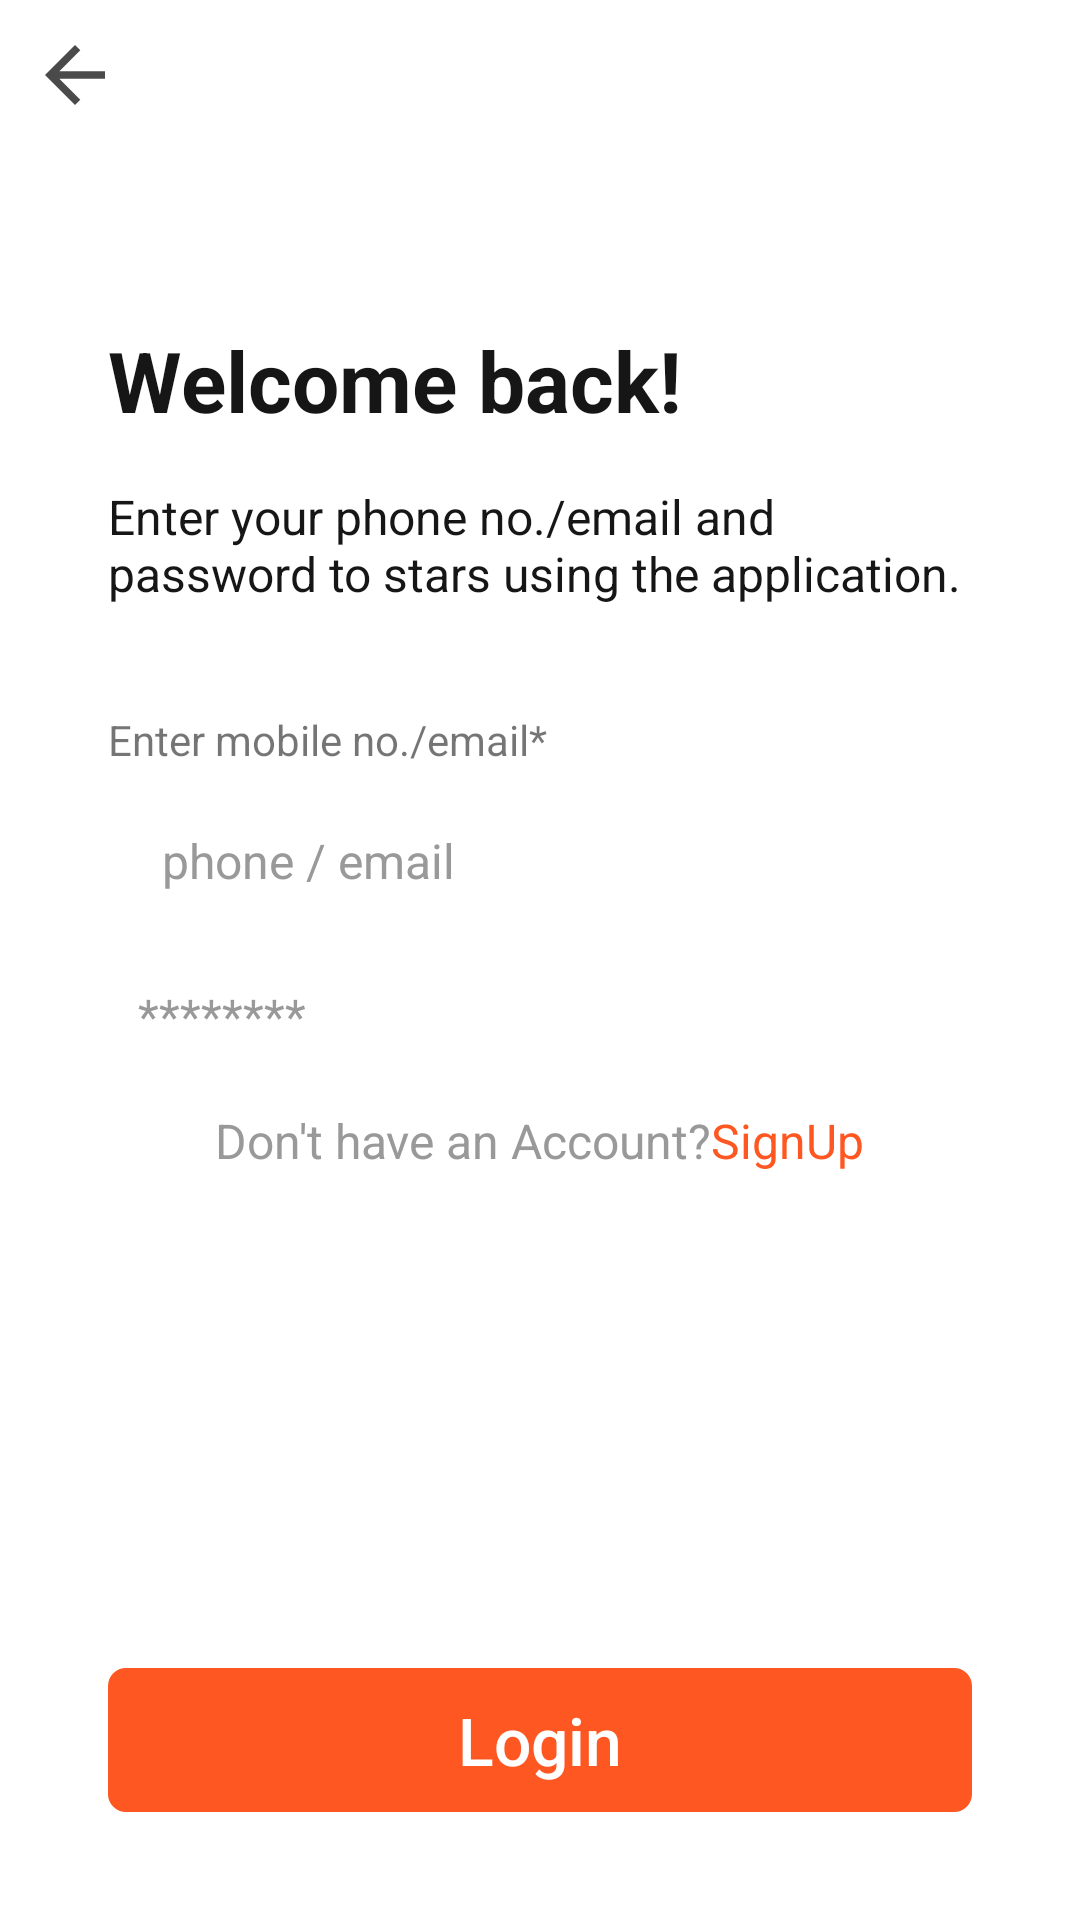

Screen size 1080 x 1920. Icon name, then its center in pixels as (x=x, y=y):
back arrow: (x=75, y=75)
